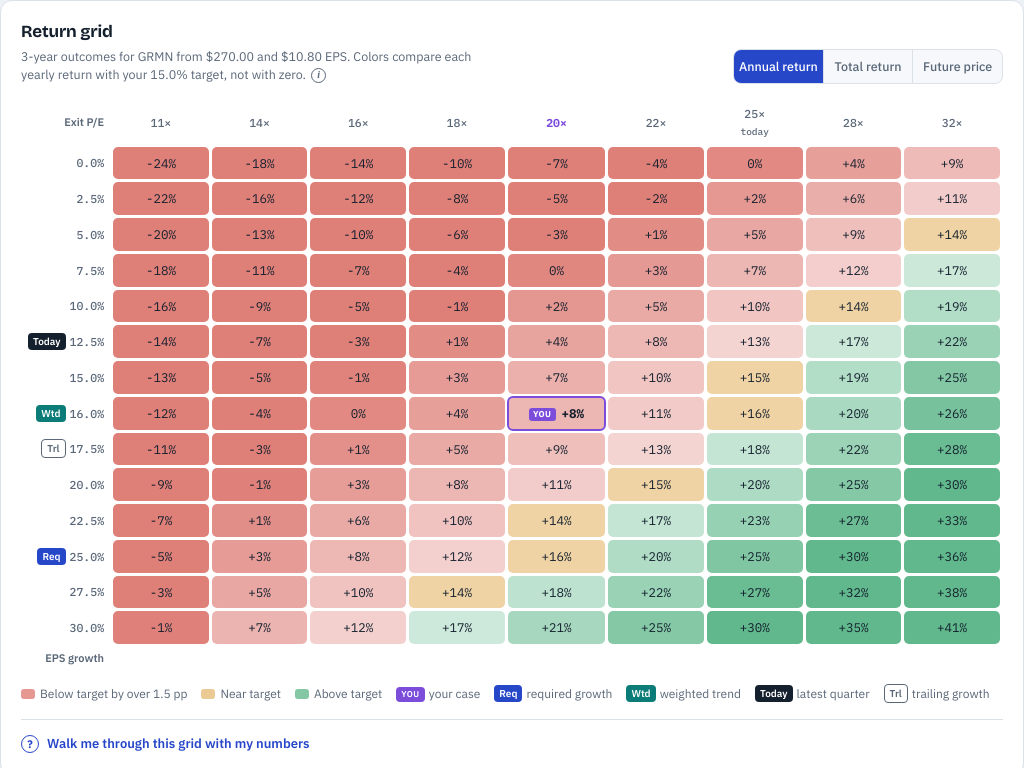
the return grid › shows the calculation of a cell on hover
Hover over the cell "YOU +8%" at (556, 413), box [508,397,605,430]
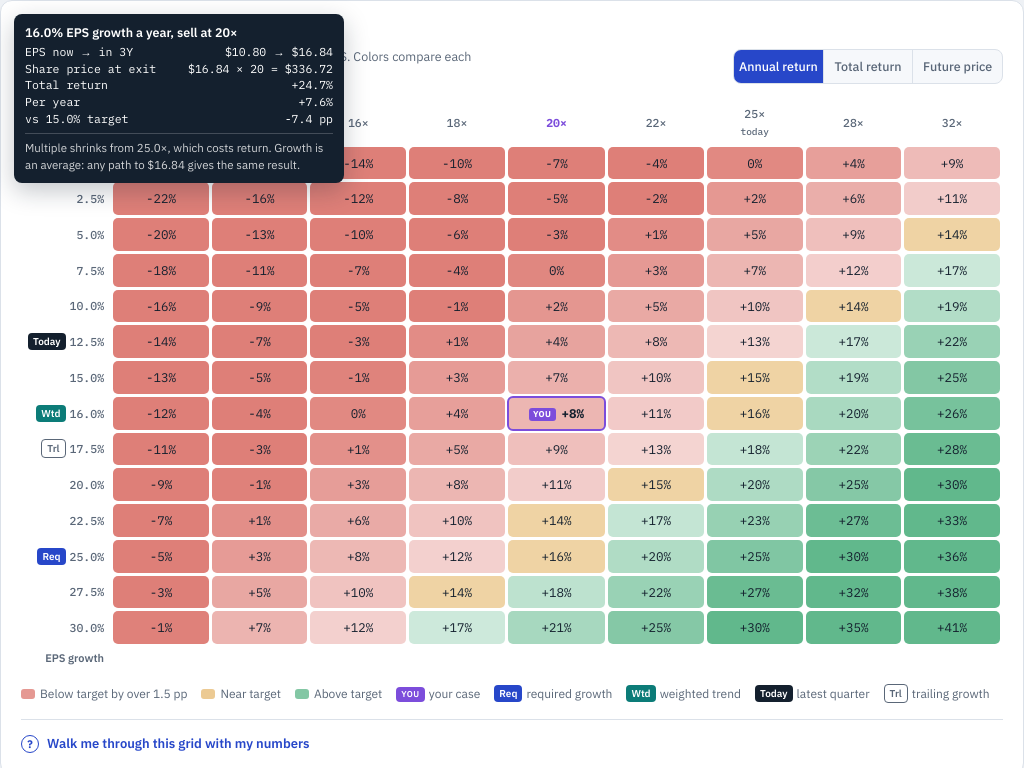
Expected: the tooltip shows "16.0% EPS growth a year, sell at 20×", [14,14,344,183]
Expected: the tooltip shows "Multiple shrinks from 25.0×, which costs return.", [25,140,274,156]
